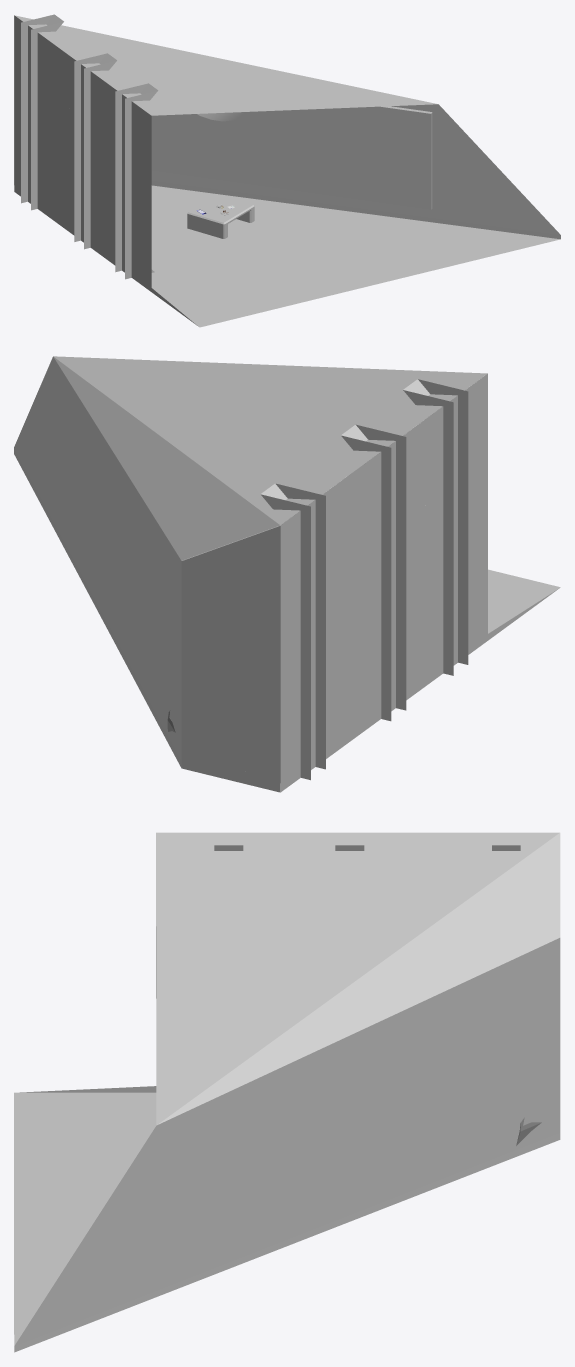
File: background.FBX
3 renders of one model, top to bottom at view 1: azimuth 30°, elevation 25°; view 2: azimuth 150°, elevation 25°; view 3: azimuth 270°, elevation 25°, orthographic. The views are drawn at different scales.
Visible parts, largest first — view 1: wall_room, World_Map(Waiting_Room), Pillar, table, wall_light; view 2: wall_room, wall, Pillar, wall_light (×2); view 3: wall_room.
Part boxes in pixels (bbox=[...]): wall_room: bbox=[14, 15, 560, 327]; World_Map(Waiting_Room): bbox=[151, 106, 432, 209]; Pillar: bbox=[21, 14, 158, 279]; table: bbox=[187, 194, 254, 238]; wall_light: bbox=[16, 17, 144, 286]; wall_room: bbox=[14, 356, 560, 792]; wall: bbox=[181, 526, 280, 783]; Pillar: bbox=[260, 379, 468, 780]; wall_light (×2): bbox=[186, 382, 476, 789]; wall_room: bbox=[14, 832, 560, 1352].
Bounding box in the file's own units: 23.55 × 11.06 × 20.56.
